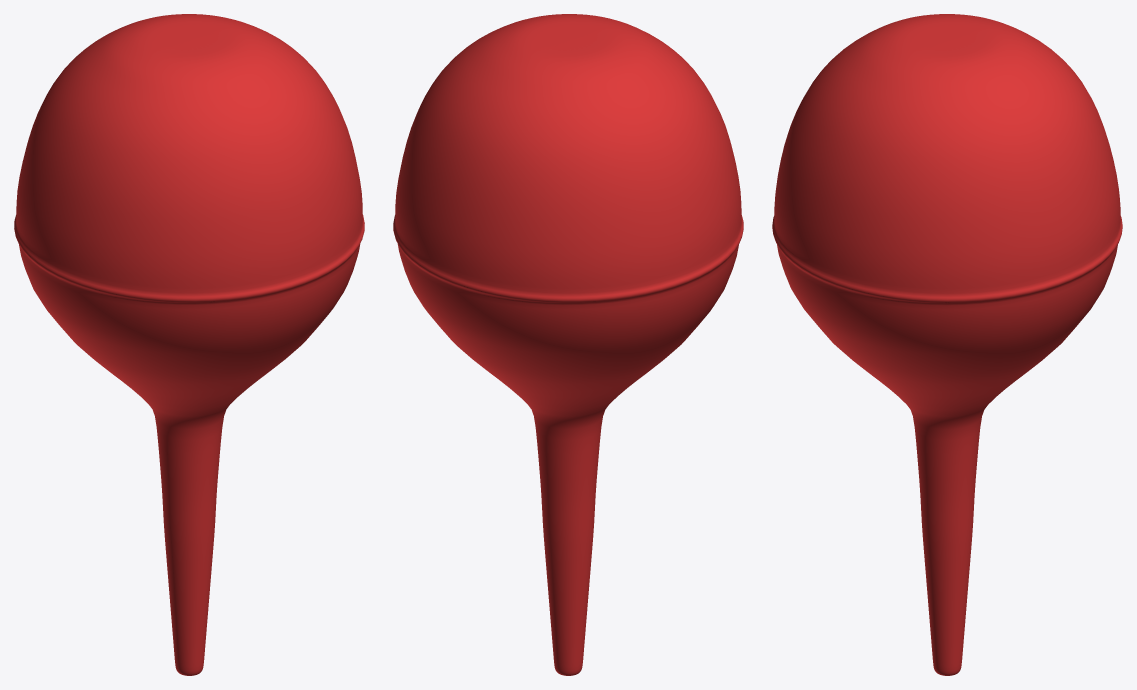
Rendered from pipet bulb.glb.
The picture shows the model from 3 angles, left to right: view 1: azimuth 30°, elevation 25°; view 2: azimuth 150°, elevation 25°; view 3: azimuth 270°, elevation 25°; orthographic projection.
Visible parts, largest first — view 1: Circle.001; view 2: Circle.001; view 3: Circle.001.
Part boxes in pixels (bbox=[...]): Circle.001: bbox=[14, 14, 364, 675]; Circle.001: bbox=[393, 14, 743, 675]; Circle.001: bbox=[772, 14, 1122, 675].
Bounding box in the file's own units: 0.5029 × 1 × 0.5029.
